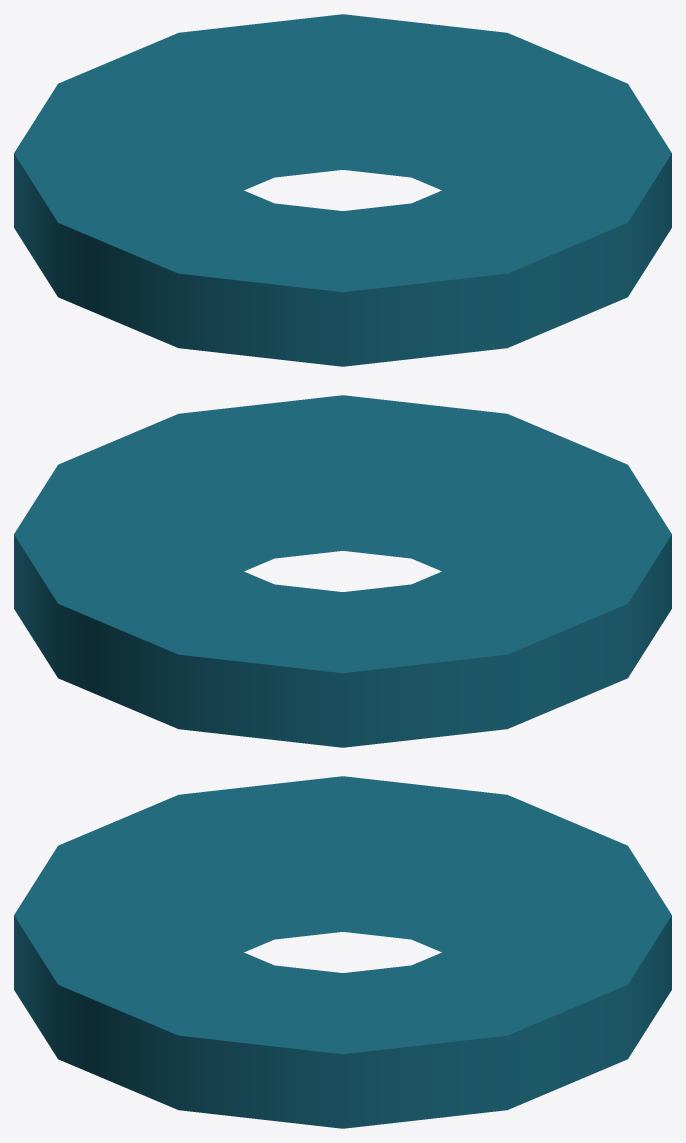
Rendered from original-12.obj.
3 renders of one model, top to bottom at view 1: azimuth 30°, elevation 25°; view 2: azimuth 150°, elevation 25°; view 3: azimuth 270°, elevation 25°, orthographic.
Parts seen in each view (by area): view 1: #ID52; view 2: #ID52; view 3: #ID52.
Boxes of the visible parts, <box> form: #ID52: <box>14,14,671,366</box>; #ID52: <box>14,395,671,747</box>; #ID52: <box>14,776,671,1128</box>.
Bounding box in the file's own units: 0.0979 × 0.0122 × 0.0979.
